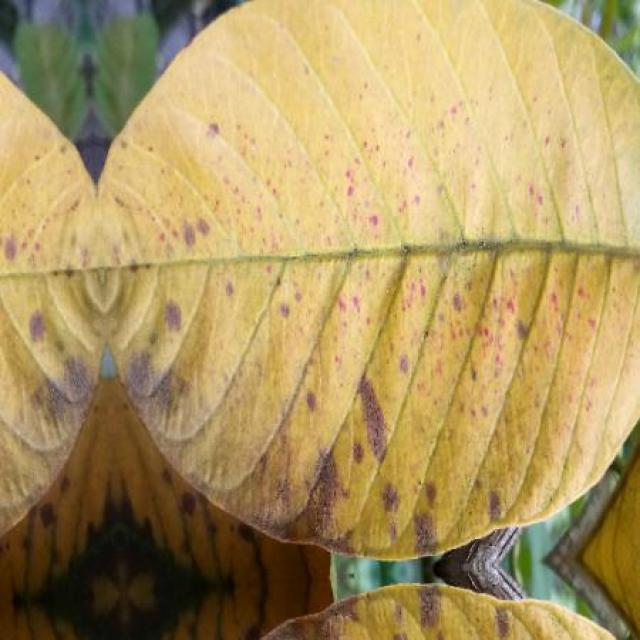Red Rust: (0, 2, 640, 639), (280, 588, 611, 640)
